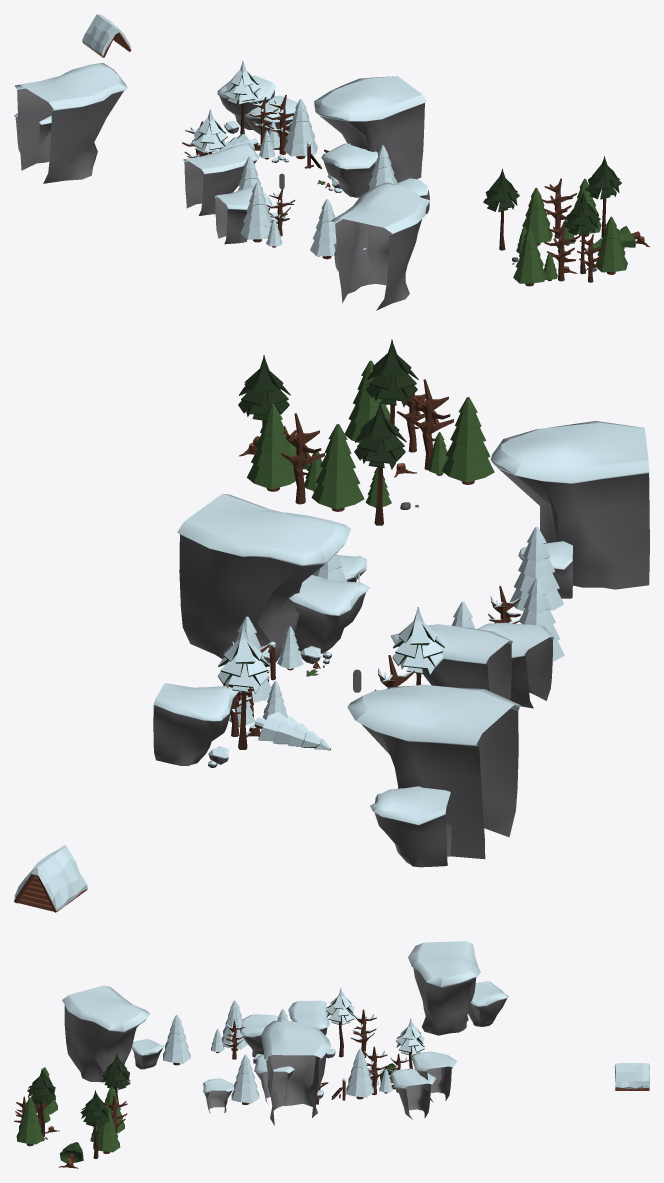
Rendered from ValleyProps.fbx.
3 renders of one model, top to bottom at view 1: azimuth 30°, elevation 25°; view 2: azimuth 150°, elevation 25°; view 3: azimuth 270°, elevation 25°, orthographic. The views are drawn at different scales.
Visible parts, largest first — view 1: Cliffside_7, Cliffside_10, Cliffside_4, Cliffside_3, Cliffside_2, Cliffside_9, TreeWithSnow1, TreeWithSnow3, Cabin, Tree1, Tree2, Pine_Tree (+16 smaller); view 2: Cliffside_10, Cliffside_4, Cliffside_7, Cliffside_5, Cliffside_8, Cliffside_3, Cliffside_2, Cliffside_9, Cabin, Tree1, Tree, Tree3 (+12 smaller); view 3: Cliffside_10, Cliffside_7, Cliffside_4, Cliffside_6, Cliffside_5, Cliffside_8, Cabin, Cliffside_3, TreeWithSnow, TreeWithSnow1, TreeWithSnow4, Cliffside_9 (+14 smaller).
Boxes of the visible parts, x1,y1,x2,y2 form: Cliffside_7: [15, 63, 127, 183]; Cliffside_10: [331, 182, 430, 310]; Cliffside_4: [314, 76, 426, 182]; Cliffside_3: [183, 143, 259, 215]; Cliffside_2: [321, 143, 377, 197]; Cliffside_9: [214, 186, 272, 244]; TreeWithSnow1: [284, 99, 317, 159]; TreeWithSnow3: [240, 182, 271, 242]; Cabin: [82, 14, 131, 57]; Tree1: [513, 228, 546, 286]; Tree2: [596, 216, 627, 274]; Pine_Tree: [483, 169, 519, 250]; Cliffside_10: [490, 421, 649, 589]; Cliffside_4: [177, 493, 350, 663]; Cliffside_7: [347, 684, 520, 859]; Cliffside_5: [153, 683, 238, 763]; Cliffside_8: [370, 786, 451, 867]; Cliffside_3: [390, 624, 512, 699]; Cliffside_2: [289, 575, 369, 653]; Cliffside_9: [477, 622, 554, 708]; Cabin: [14, 845, 87, 912]; Tree1: [441, 397, 494, 484]; Tree: [311, 424, 364, 511]; Tree3: [247, 404, 295, 491]; Cliffside_10: [62, 985, 149, 1082]; Cliffside_7: [408, 941, 480, 1035]; Cliffside_4: [261, 1020, 331, 1125]; Cliffside_6: [390, 1068, 436, 1119]; Cliffside_5: [411, 1051, 456, 1102]; Cliffside_8: [468, 981, 508, 1026]; Cabin: [614, 1063, 649, 1090]; Cliffside_3: [288, 1000, 329, 1035]; TreeWithSnow: [231, 1054, 259, 1104]; TreeWithSnow1: [346, 1048, 373, 1099]; TreeWithSnow4: [163, 1014, 190, 1065]; Cliffside_9: [240, 1014, 277, 1057].
Size of the model in its own units: 198 by 49.64 by 330.
21 materials, 20 textured.
